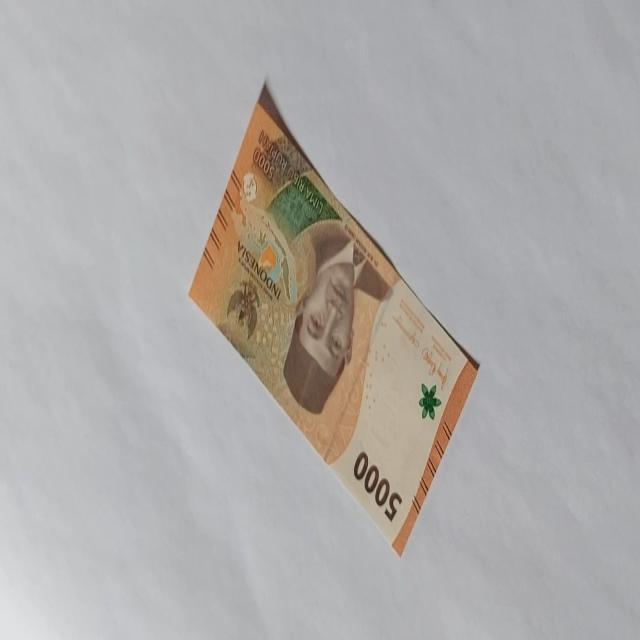lima ribu rupiah: (188, 78, 480, 558), (282, 221, 368, 415)
